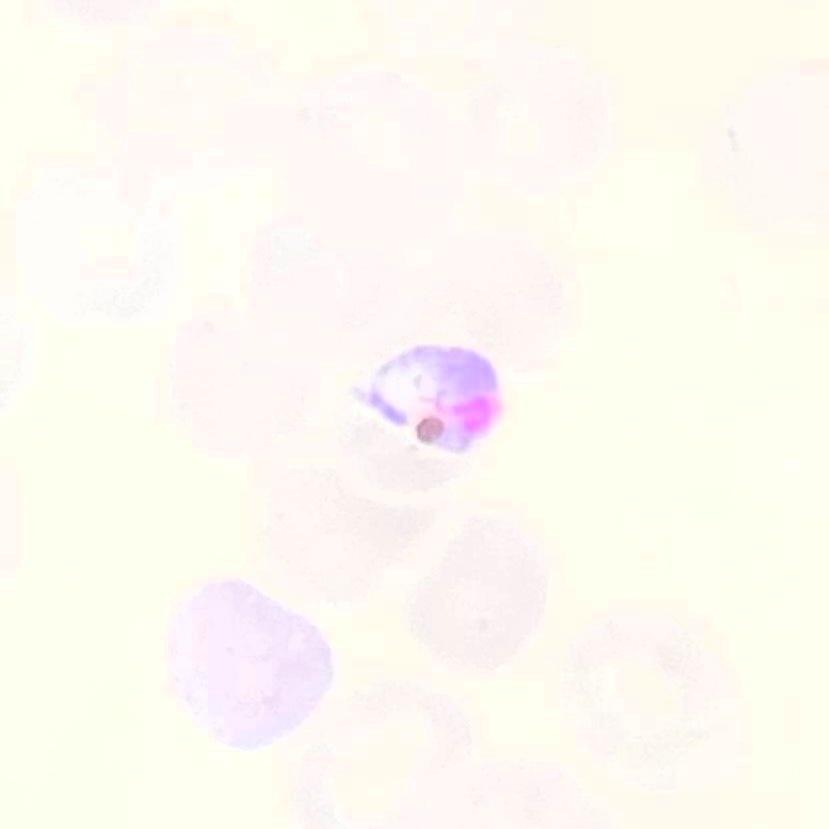Infected: (352, 344, 503, 459)
